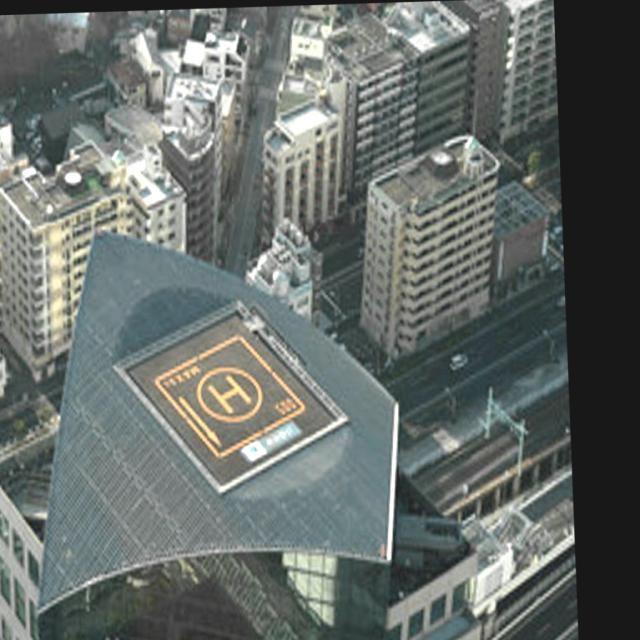helipad: (194, 364, 264, 424)
